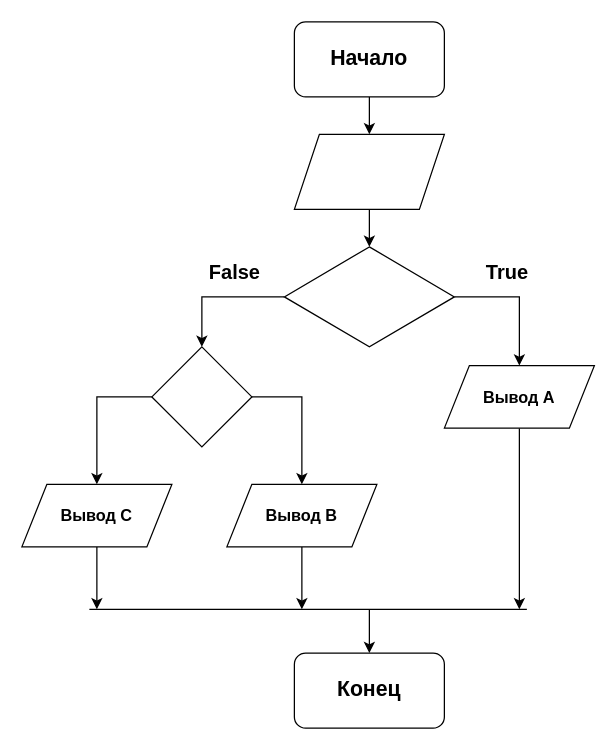
Some shapes in this 616 by 750 pixel diagram are drawn without their labels. Here are the shapes that lost their labels. From the top down, the centre of each, then its label:
(368,171): Ввод int(A,B,C)
(368,296): A>B && A>C
(201,396): B>C
